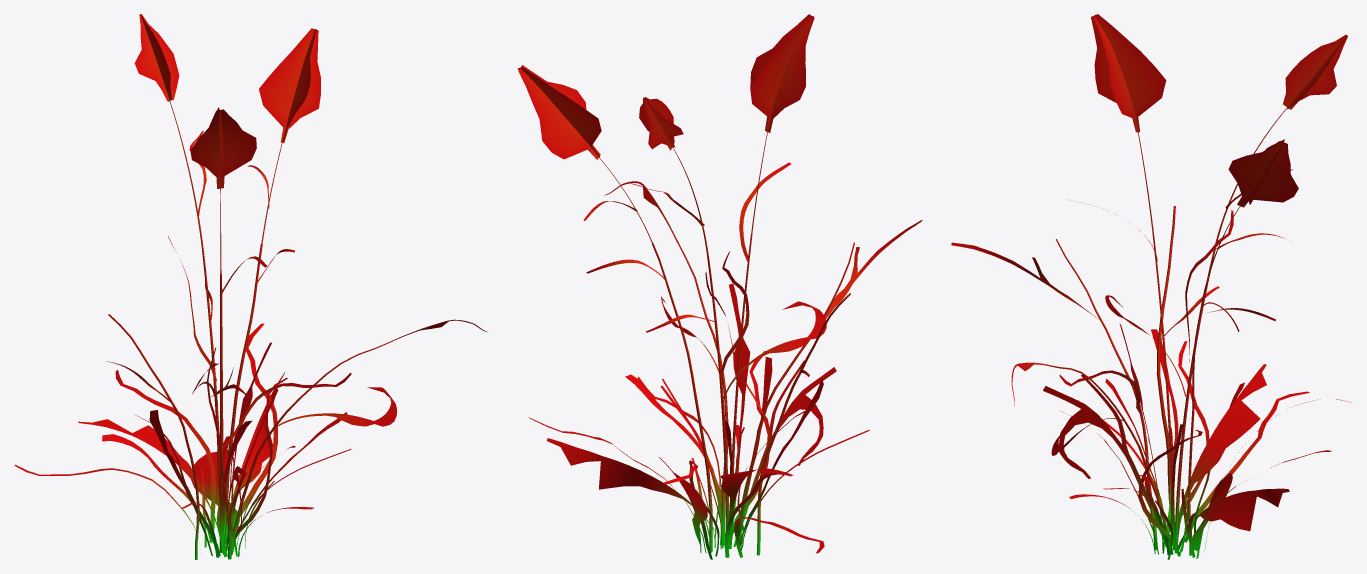
File: skljc_Var3_LOD0.fbx
The picture shows the model from 3 angles, left to right: view 1: azimuth 30°, elevation 25°; view 2: azimuth 150°, elevation 25°; view 3: azimuth 270°, elevation 25°; orthographic projection. The views are drawn at different scales.
Parts seen in each view (by area): view 1: _ddfa_Var3_LOD0; view 2: _ddfa_Var3_LOD0; view 3: _ddfa_Var3_LOD0.
Boxes of the visible parts, x1,y1,x2,y2 form: _ddfa_Var3_LOD0: [14, 14, 487, 559]; _ddfa_Var3_LOD0: [517, 14, 922, 559]; _ddfa_Var3_LOD0: [951, 14, 1350, 559].
Bounding box in the file's own units: 79.61 × 109 × 76.5.
